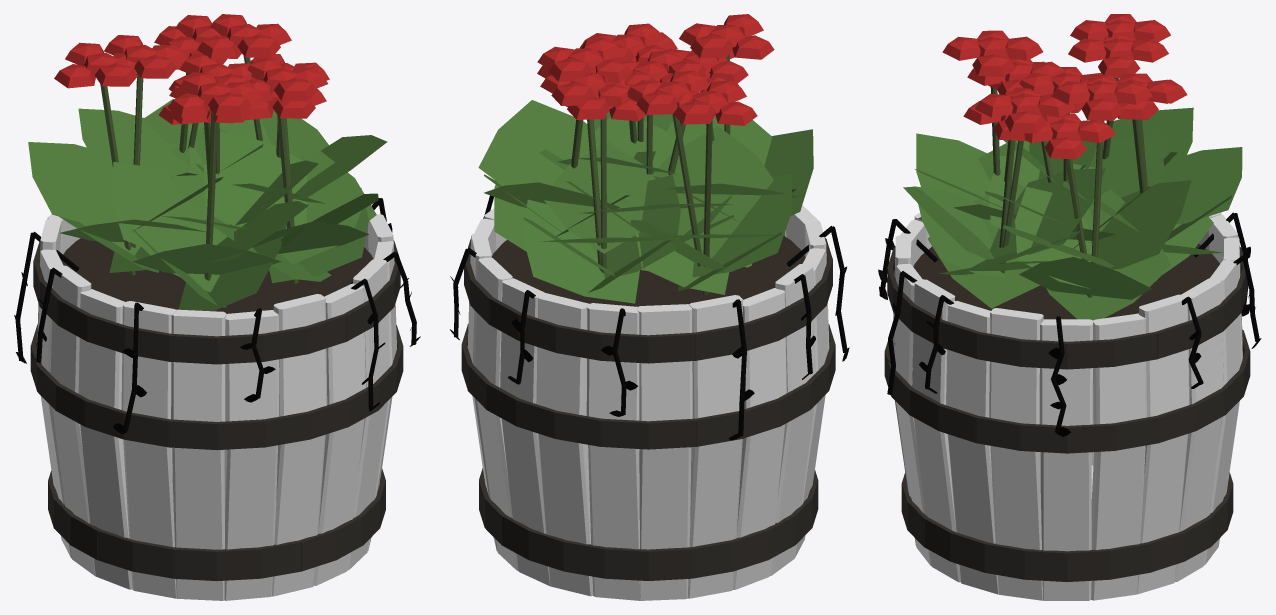
File: SilverbrookPropFlowerTub.fbx
3 renders of one model, left to right at view 1: azimuth 30°, elevation 25°; view 2: azimuth 150°, elevation 25°; view 3: azimuth 270°, elevation 25°, orthographic. The views are drawn at different scales.
Parts seen in each view (by area): view 1: SM_SBFlowerTub_Staves, SM_SBFlowerTub_Leaves, SM_SBFlowerTub_Hoops, SM_SBFlowerTub_Blooms, SM_SBFlowerTub_Soil, SM_SBFlowerTub_Thyme, SM_SBFlowerTub_Stems; view 2: SM_SBFlowerTub_Staves, SM_SBFlowerTub_Leaves, SM_SBFlowerTub_Hoops, SM_SBFlowerTub_Blooms, SM_SBFlowerTub_Soil, SM_SBFlowerTub_Stems, SM_SBFlowerTub_Thyme; view 3: SM_SBFlowerTub_Staves, SM_SBFlowerTub_Leaves, SM_SBFlowerTub_Hoops, SM_SBFlowerTub_Blooms, SM_SBFlowerTub_Thyme, SM_SBFlowerTub_Soil, SM_SBFlowerTub_Stems.
Boxes of the visible parts, bbox=[...] form: SM_SBFlowerTub_Staves: bbox=[37, 214, 396, 600]; SM_SBFlowerTub_Leaves: bbox=[28, 99, 387, 311]; SM_SBFlowerTub_Hoops: bbox=[30, 240, 403, 580]; SM_SBFlowerTub_Blooms: bbox=[54, 14, 329, 124]; SM_SBFlowerTub_Soil: bbox=[60, 238, 373, 313]; SM_SBFlowerTub_Thyme: bbox=[14, 198, 420, 434]; SM_SBFlowerTub_Stems: bbox=[100, 56, 298, 283]; SM_SBFlowerTub_Staves: bbox=[467, 205, 829, 600]; SM_SBFlowerTub_Leaves: bbox=[478, 100, 813, 303]; SM_SBFlowerTub_Hoops: bbox=[461, 238, 835, 580]; SM_SBFlowerTub_Blooms: bbox=[537, 14, 774, 125]; SM_SBFlowerTub_Soil: bbox=[491, 236, 805, 306]; SM_SBFlowerTub_Stems: bbox=[571, 53, 730, 295]; SM_SBFlowerTub_Thyme: bbox=[450, 195, 849, 440]; SM_SBFlowerTub_Staves: bbox=[892, 212, 1242, 600]; SM_SBFlowerTub_Leaves: bbox=[903, 107, 1242, 320]; SM_SBFlowerTub_Hoops: bbox=[884, 246, 1250, 582]; SM_SBFlowerTub_Blooms: bbox=[942, 14, 1187, 159]; SM_SBFlowerTub_Thyme: bbox=[878, 212, 1261, 436]; SM_SBFlowerTub_Soil: bbox=[913, 244, 1219, 319]; SM_SBFlowerTub_Stems: bbox=[990, 78, 1147, 297].
Size of the model in its own units: 56.13 by 74.81 by 54.47.
